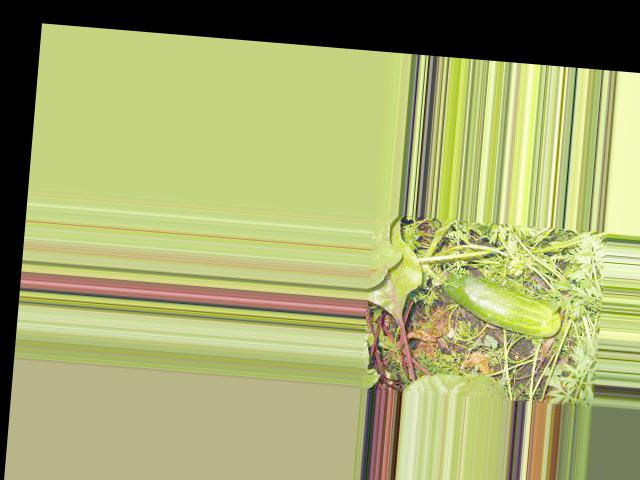cucumber: (437, 269, 562, 338)
